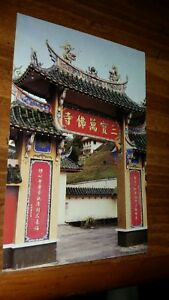Buddhist Temple: (14, 37, 142, 249)
